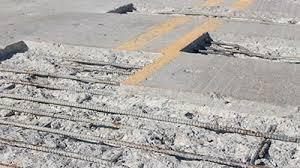exposed_rebar: (0, 95, 300, 142), (0, 119, 246, 167), (0, 69, 119, 85), (250, 124, 277, 164), (15, 81, 67, 90)
spalling: (0, 41, 300, 167), (182, 33, 300, 63)
